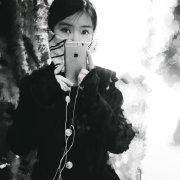WRONG: (53, 20, 97, 64)
